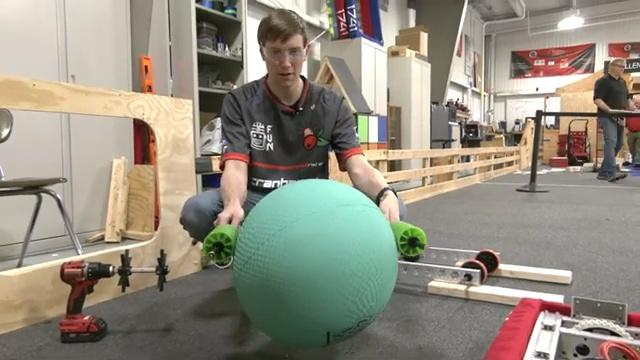ALGAE: (230, 177, 399, 348)
